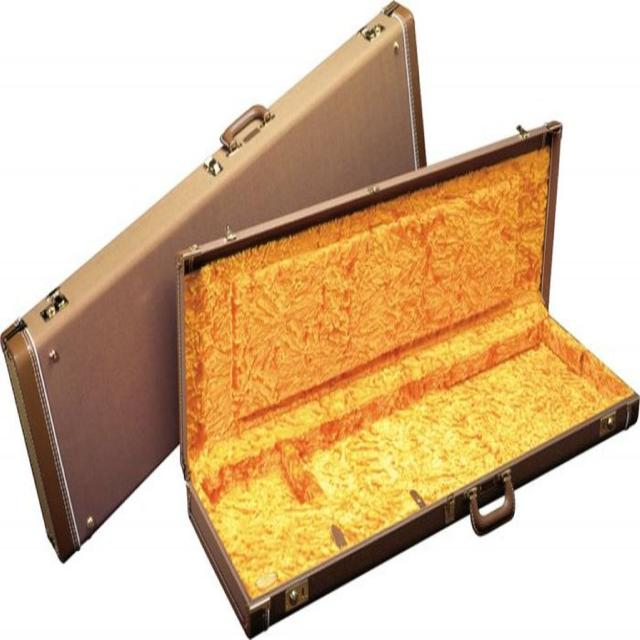Box: (176, 120, 640, 639), (1, 0, 425, 566)
